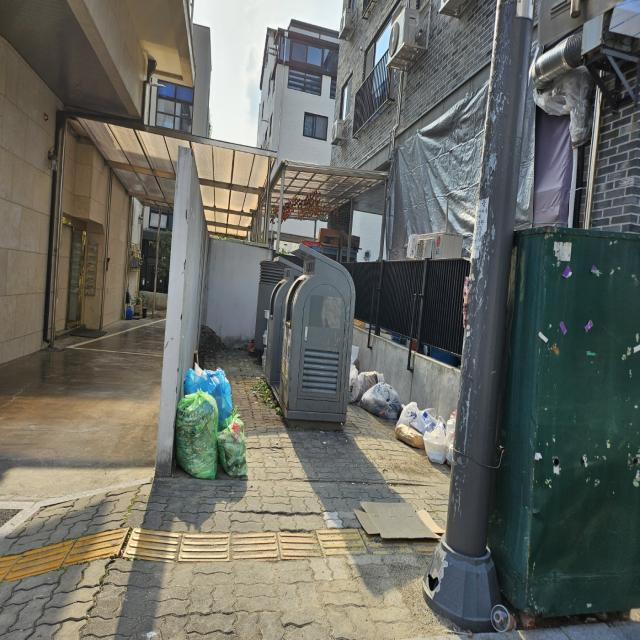CleanNet: (276, 242, 356, 427)
General Waste: (179, 344, 249, 498)
